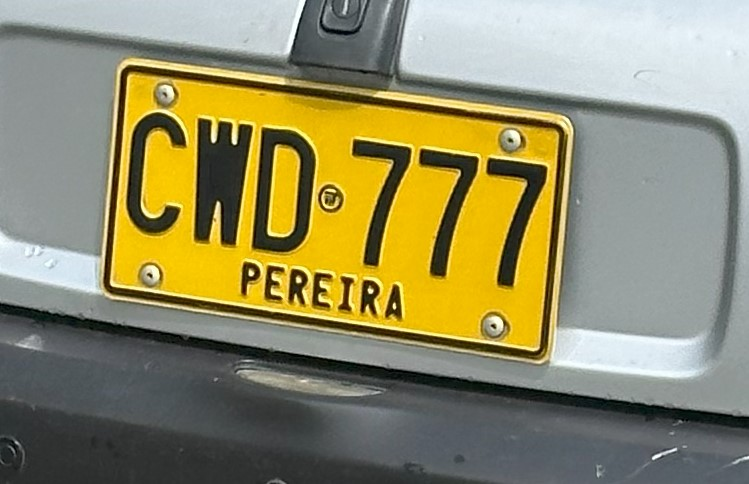number plate: (102, 59, 572, 361)
